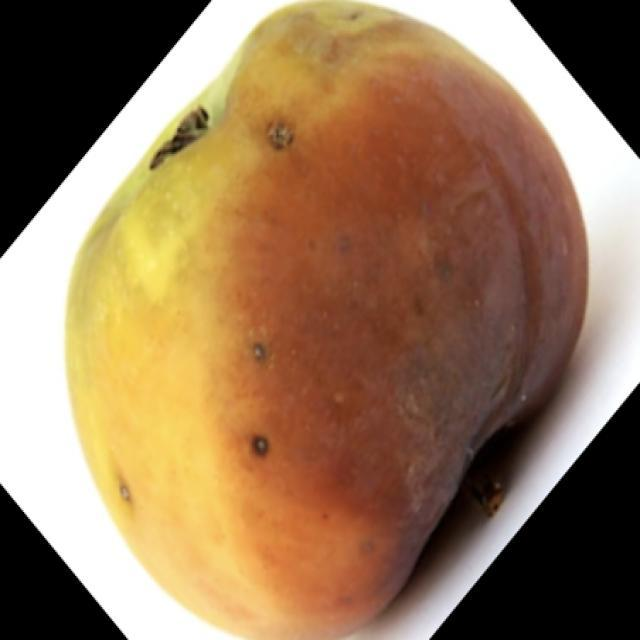Rotten: (80, 12, 567, 630)
